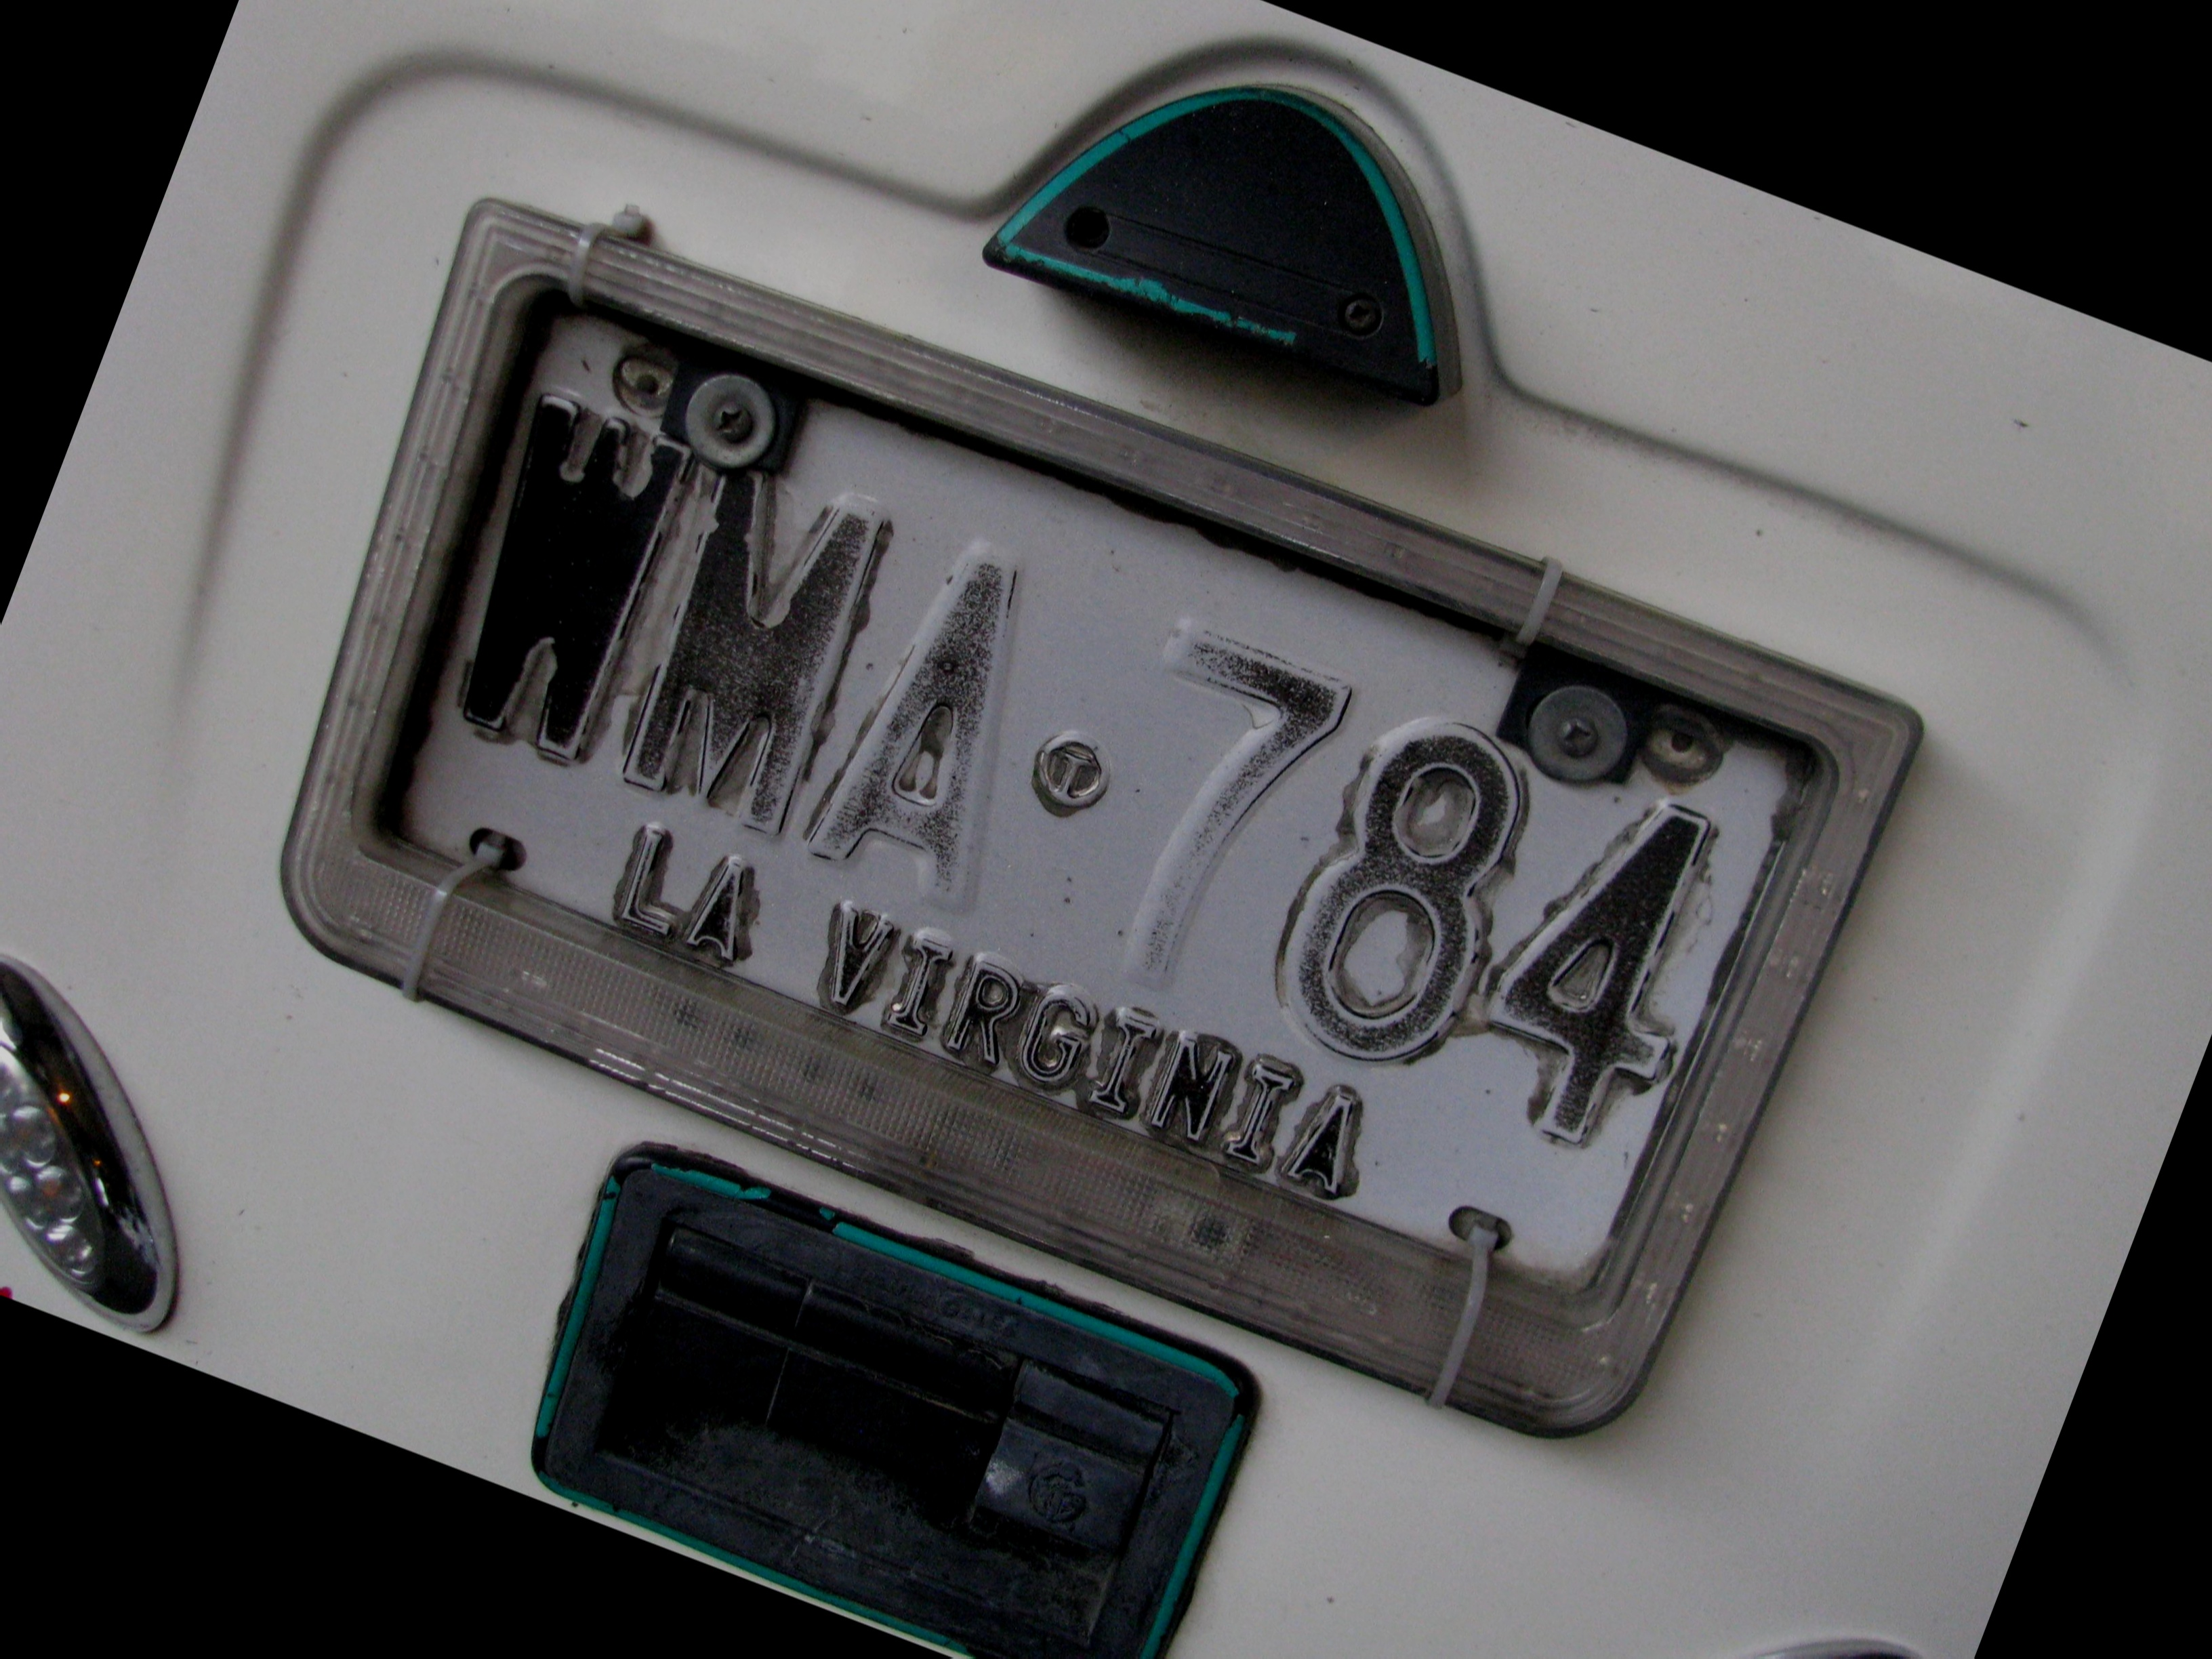placas: (189, 165, 1954, 1483)
